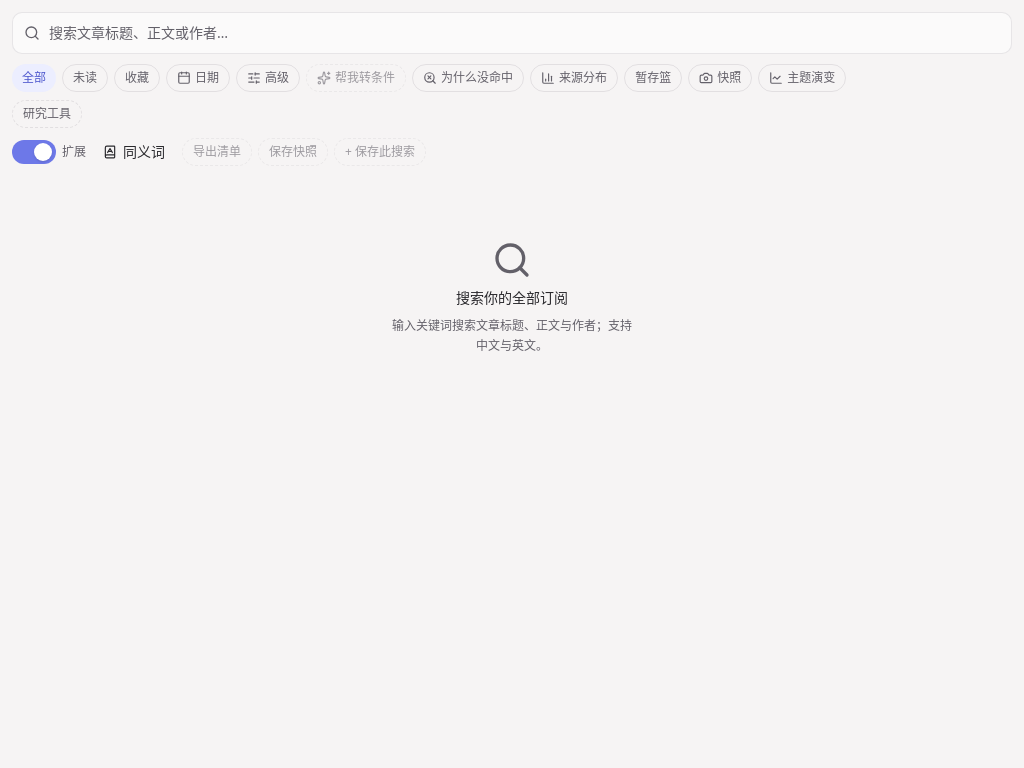
Test: N148 相似标题 chip（SearchPage） › 近同名标题行渲染 chip；独立标题行不受影响
In the search field labelled "搜索": [512, 33] box [12,12,1012,54], type "rust"
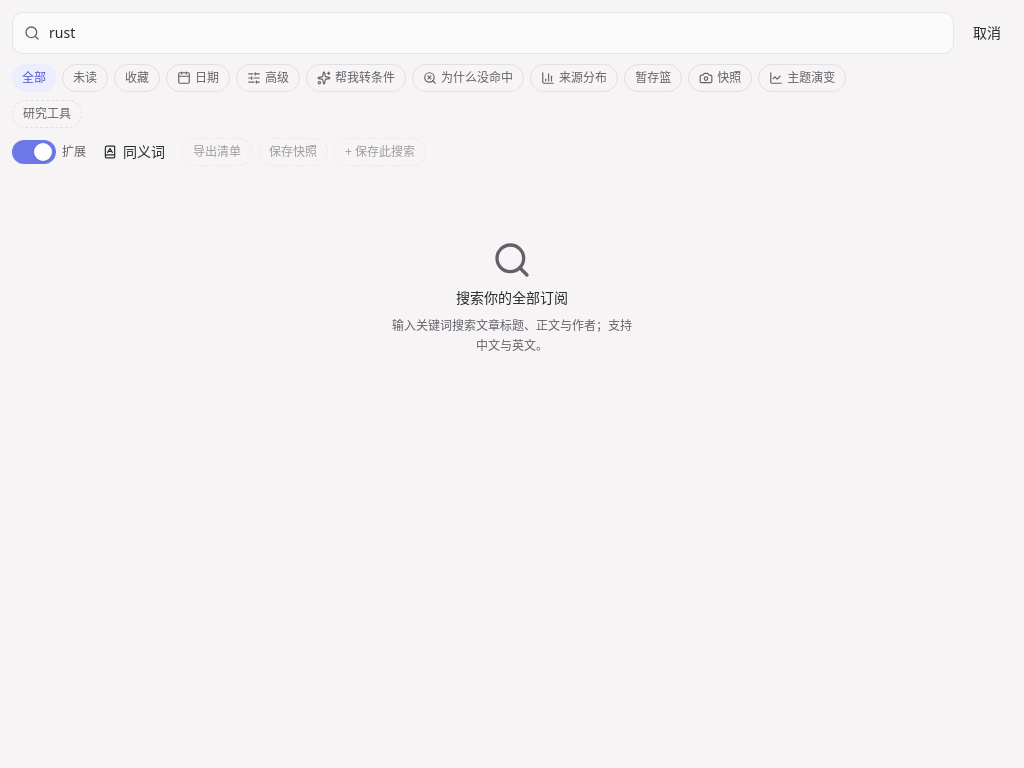
Press Enter in the search field named "搜索", box [12,12,954,54]
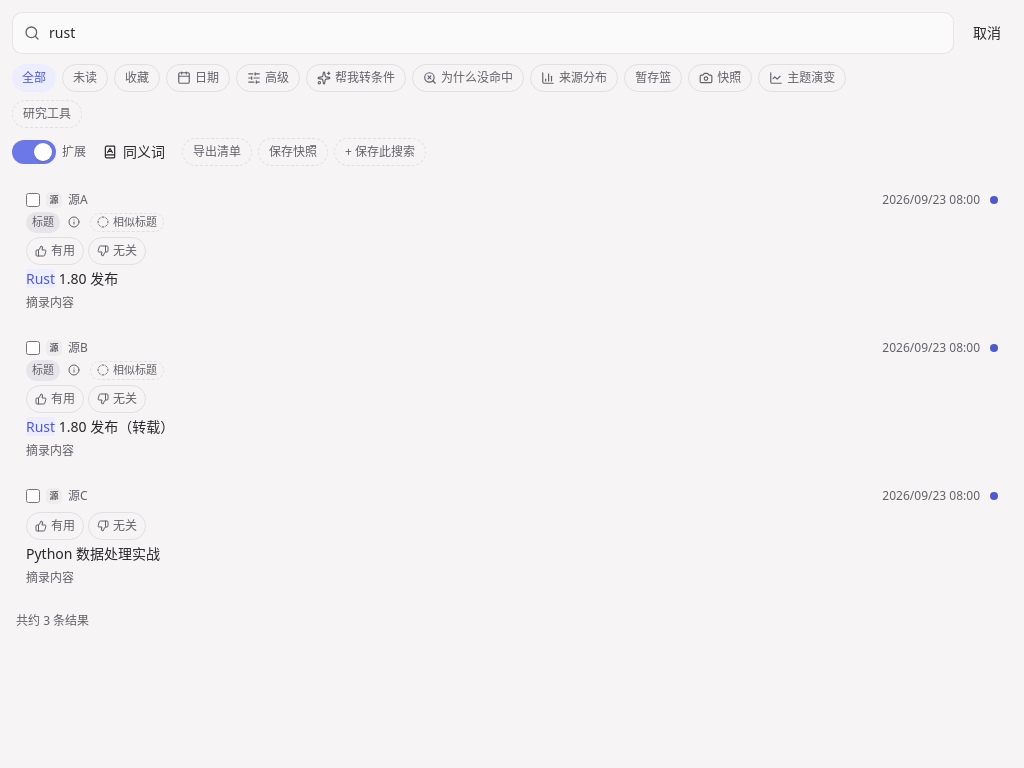
Expected: the number of buttons with test id "similar-title-chip" is 2
打开对比 popover：并排展示两条（来源/时间/摘录）。
Click the button with test id "similar-title-chip": [127, 222] box [90,213,164,232]
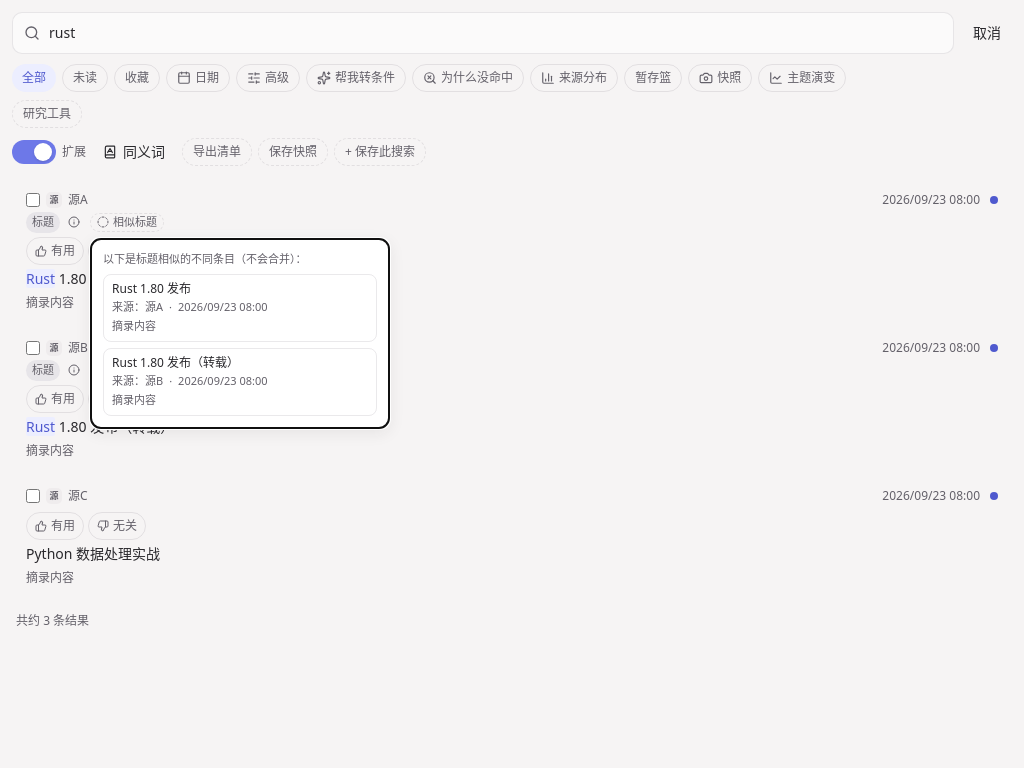
Expected: the button "源A" is shown, [68,192,876,208]
Expected: the button "源B" is shown, [68,340,876,356]
Expected: the number of elements with test id "similar-title-card" is 2, [103,274,377,342]; [103,348,377,416]
